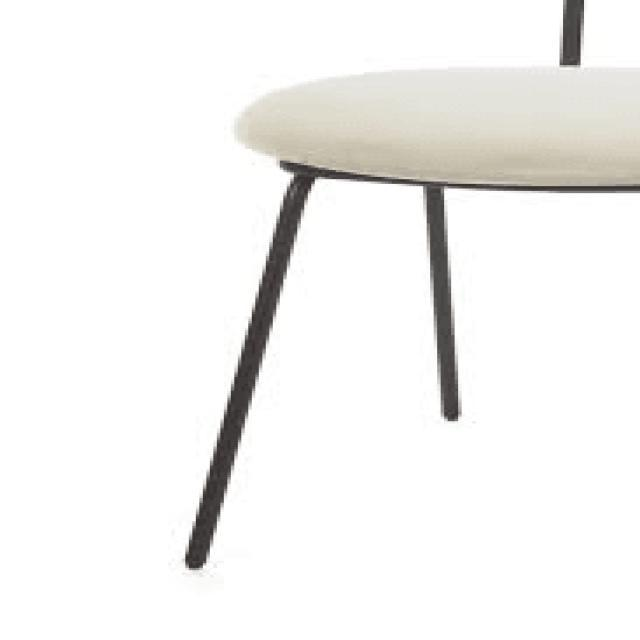chair: (126, 2, 630, 580), (234, 0, 640, 194)
